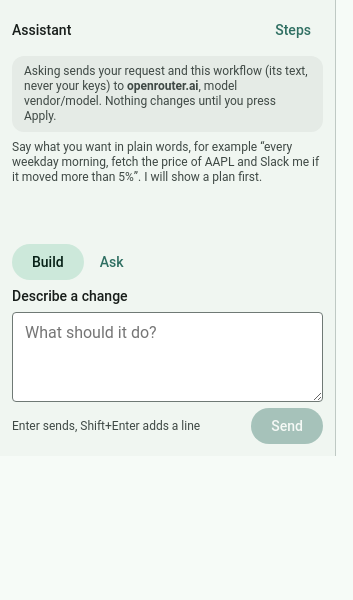
AssistantPanel › will not undo over changes made since, and says so
Type "do it" into the text box labelled "Describe a change" at x=168, y=357, box x1=12 y1=312 x2=323 y2=402
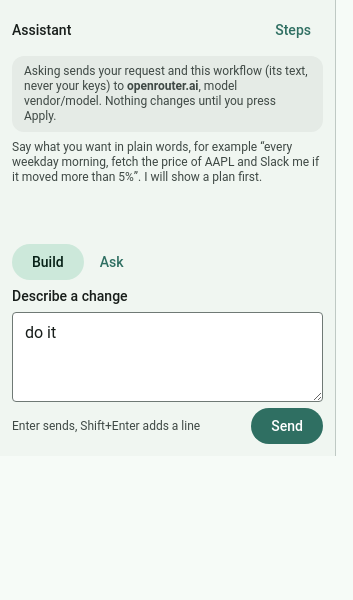
Click the button "Send" at x=287, y=426, box x1=251 y1=408 x2=323 y2=444
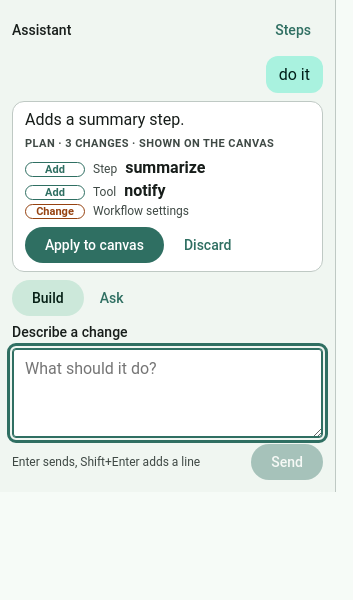
Now the element named "Proposed plan" is shown, box x1=12 y1=101 x2=323 y2=272
Click the button "Apply to canvas" at x=94, y=245, box x1=25 y1=227 x2=164 y2=263
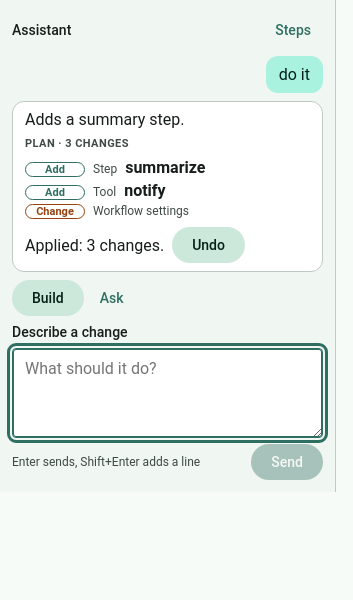
Now the text "Applied: 3 changes." is shown, box x1=25 y1=236 x2=164 y2=254
Click the button "Undo" at x=209, y=245, box x1=172 y1=227 x2=245 y2=263
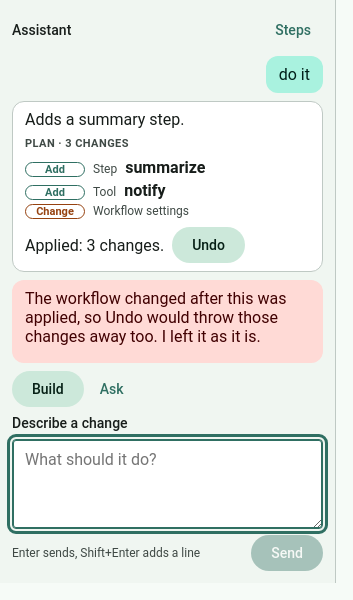
Now the 2nd message shows "changed after this was applied", box x1=25 y1=289 x2=286 y2=346
